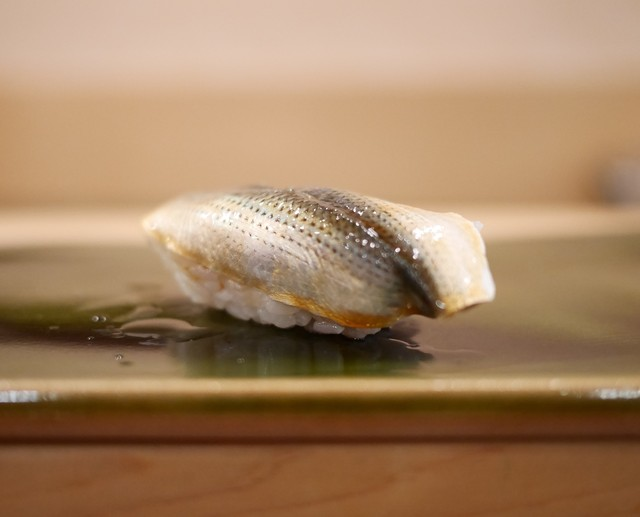spotted-shad: (141, 182, 499, 346)
